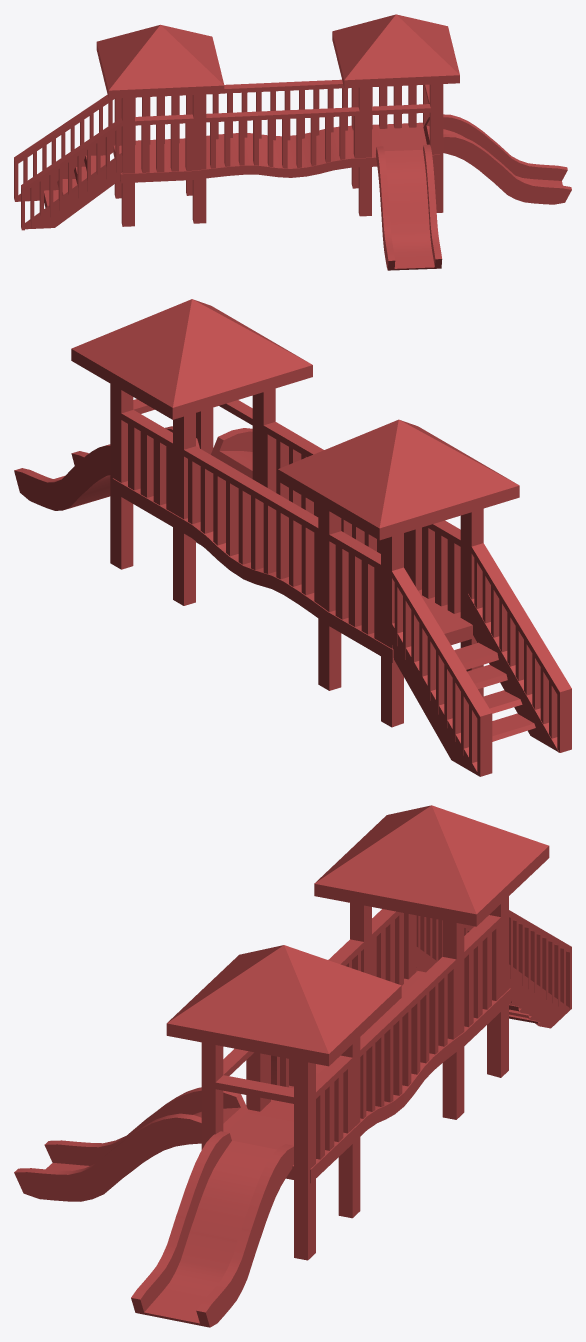
The model's file is Slide.fbx.
3 views of the same model, one above another, from view 1: azimuth 30°, elevation 25°; view 2: azimuth 150°, elevation 25°; view 3: azimuth 270°, elevation 25° (orthographic). The views are drawn at different scales.
Visible parts, largest first — view 1: slide; view 2: slide; view 3: slide.
Boxes of the visible parts, bbox=[...] form: slide: bbox=[14, 14, 571, 270]; slide: bbox=[14, 299, 571, 776]; slide: bbox=[14, 805, 571, 1327].
Size of the model in its own units: 997 by 380 by 685.
